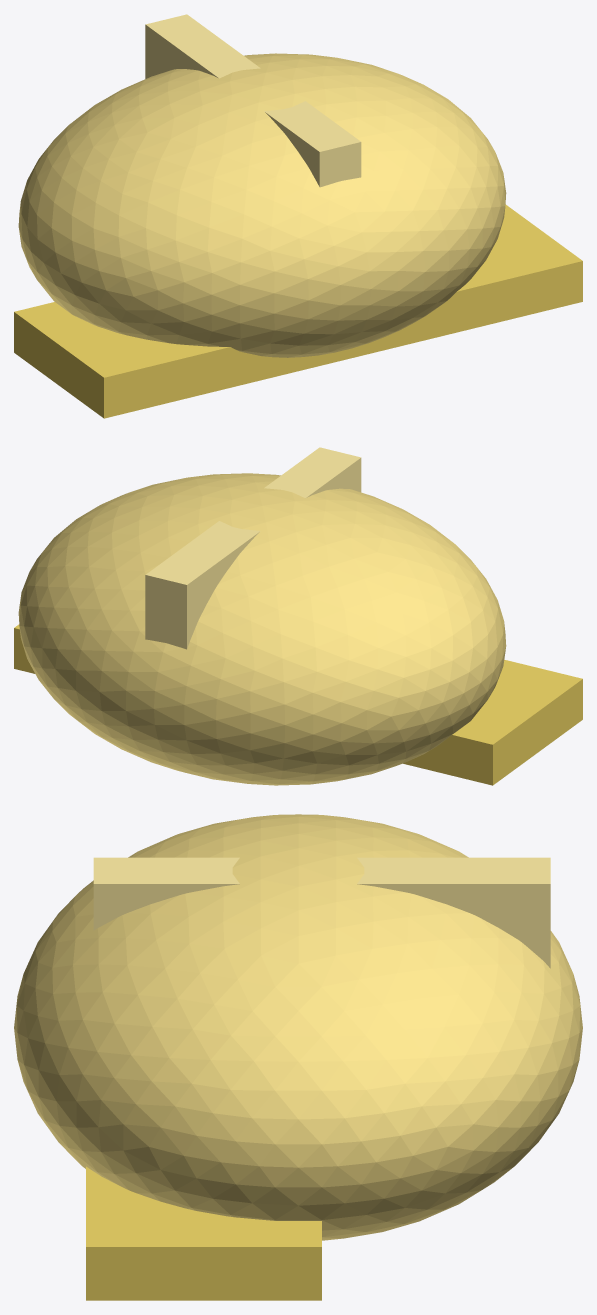
The model's file is helmet_lod2.glb.
The picture shows the model from 3 angles, top to bottom: view 1: azimuth 30°, elevation 25°; view 2: azimuth 150°, elevation 25°; view 3: azimuth 270°, elevation 25°; orthographic projection. The views are drawn at different scales.
Visible parts, largest first — view 1: helmet-shell, helmet-brim, helmet-ridge; view 2: helmet-shell, helmet-brim, helmet-ridge; view 3: helmet-shell, helmet-brim, helmet-ridge.
Part boxes in pixels (x1,y1,x2,y2): helmet-shell: [18, 53, 506, 357]; helmet-brim: [14, 204, 582, 418]; helmet-ridge: [145, 14, 361, 187]; helmet-shell: [18, 473, 506, 785]; helmet-brim: [14, 624, 582, 785]; helmet-ridge: [145, 447, 361, 649]; helmet-shell: [14, 814, 582, 1240]; helmet-brim: [86, 1166, 321, 1300]; helmet-ridge: [93, 857, 550, 968].
Bounding box in the file's own units: 0.92 × 0.4536 × 0.7224.
